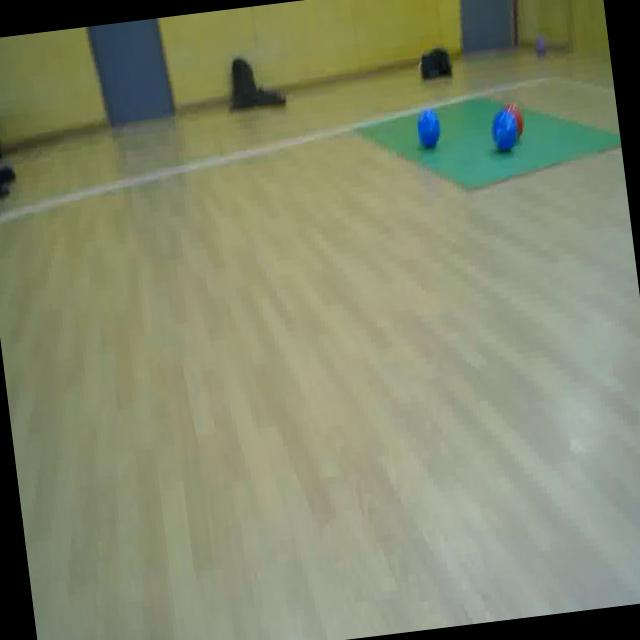blue_ball: (489, 107, 521, 155), (414, 106, 446, 152)
purple_ball: (532, 32, 550, 58)
red_ball: (505, 100, 527, 136)
